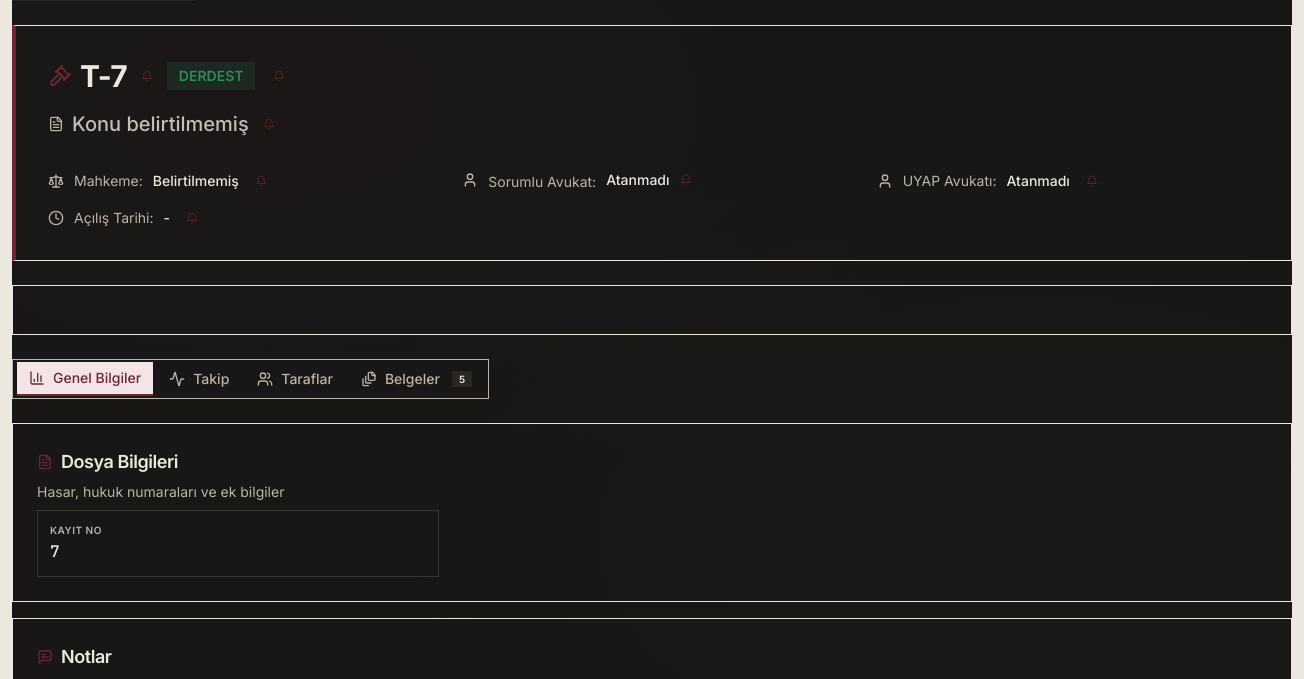
Test case: CaseDetails — Word yolu (G285) › yeni sürüm taslağı satırı: 'v2 (önceki: …)'; bağsız taslakta etiket yok
Press the mouse on the tab "Belgeler 5" at (416, 379), box [349, 363, 484, 395]
(page scrolled)
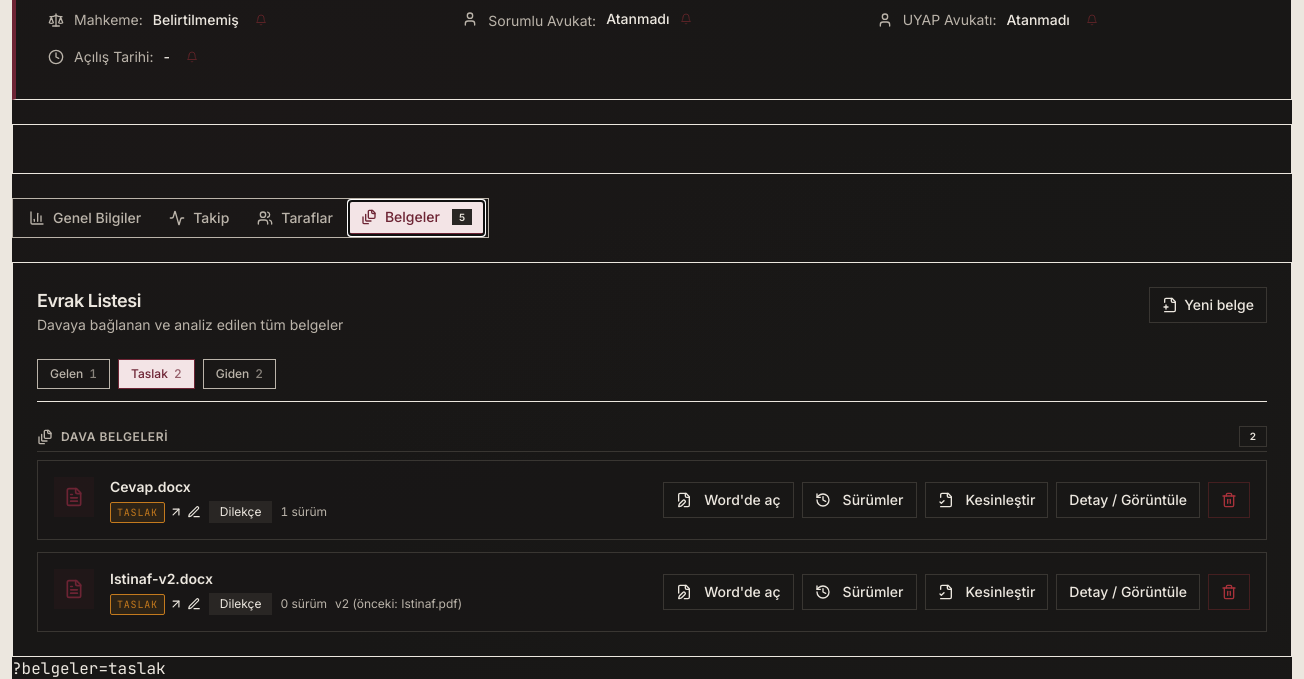
Expected: the text with test id "belge-surum-zinciri" reads "v2 (önceki: Istinaf.pdf)", [335, 596, 462, 611]
